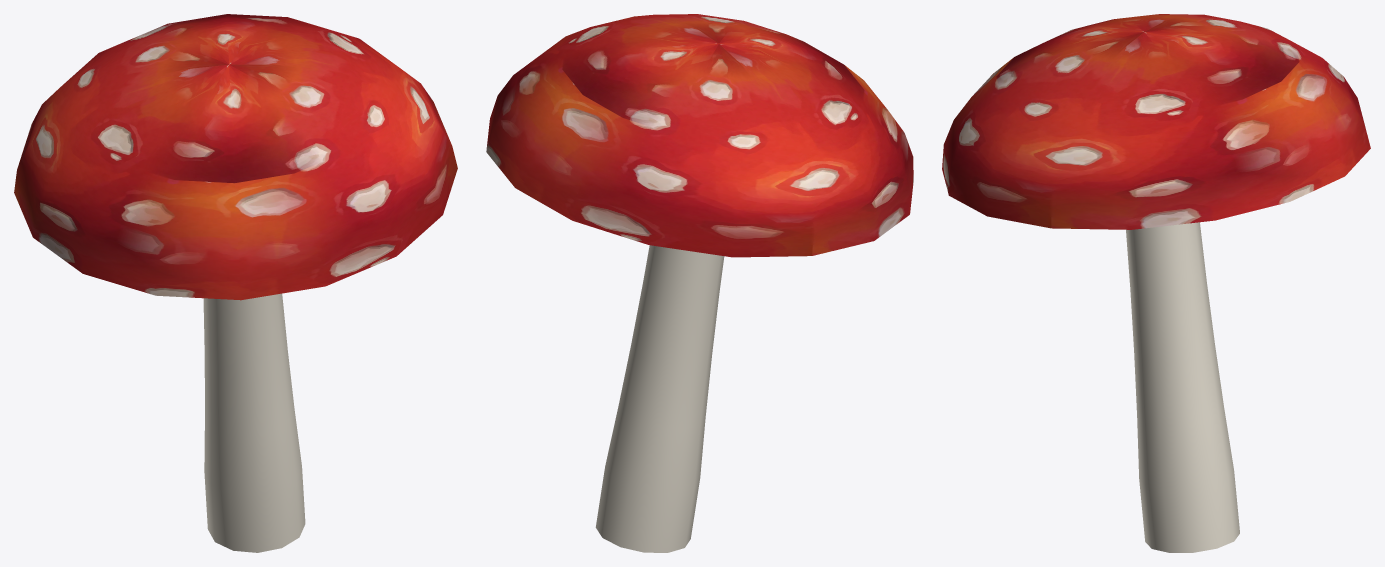
File: fly_agaric1_s7950.gltf
3 views of the same model, side by side, from view 1: azimuth 30°, elevation 25°; view 2: azimuth 150°, elevation 25°; view 3: azimuth 270°, elevation 25° (orthographic). The views are drawn at different scales.
Parts seen in each view (by area): view 1: fly_agaric1_s7950_cap_LOD0, fly_agaric1_s7950_stem_LOD0; view 2: fly_agaric1_s7950_cap_LOD0, fly_agaric1_s7950_stem_LOD0; view 3: fly_agaric1_s7950_cap_LOD0, fly_agaric1_s7950_stem_LOD0.
Part boxes in pixels (x1,y1,x2,y2): fly_agaric1_s7950_cap_LOD0: (14,14,457,300); fly_agaric1_s7950_stem_LOD0: (203,293,305,552); fly_agaric1_s7950_cap_LOD0: (486,14,913,257); fly_agaric1_s7950_stem_LOD0: (595,245,724,552); fly_agaric1_s7950_cap_LOD0: (942,14,1370,229); fly_agaric1_s7950_stem_LOD0: (1126,222,1239,552).
Size of what is drawn, in the model's own units: 0.21 by 0.2649 by 0.2102.
3 materials, 1 textured.
